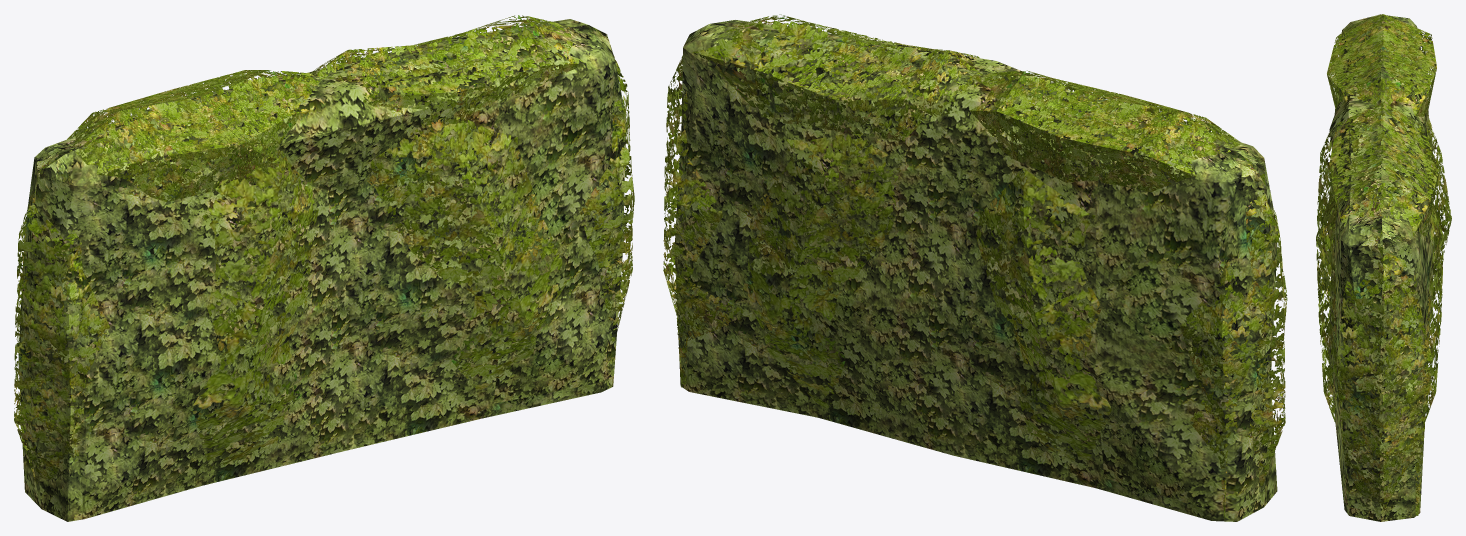
The model's file is Maple_High.dae.
3 renders of one model, left to right at view 1: azimuth 30°, elevation 25°; view 2: azimuth 150°, elevation 25°; view 3: azimuth 270°, elevation 25°, orthographic. The views are drawn at different scales.
Parts seen in each view (by area): view 1: mapleHigh; view 2: mapleHigh; view 3: mapleHigh.
Boxes of the visible parts, bbox=[...] form: mapleHigh: bbox=[14, 15, 634, 521]; mapleHigh: bbox=[663, 14, 1287, 521]; mapleHigh: bbox=[1316, 14, 1451, 521].
Bounding box in the file's own units: 5.06 × 2.98 × 1.16.
Materials: 1 (1 with a texture image).
